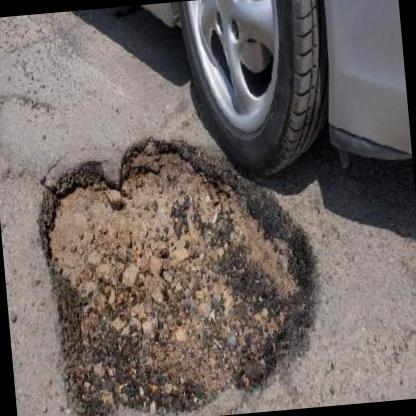pothole: (30, 122, 329, 416)
